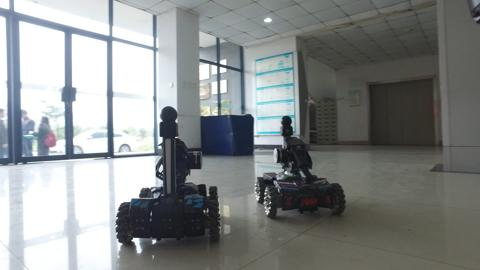chariot: (105, 105, 227, 247), (247, 114, 351, 225)
